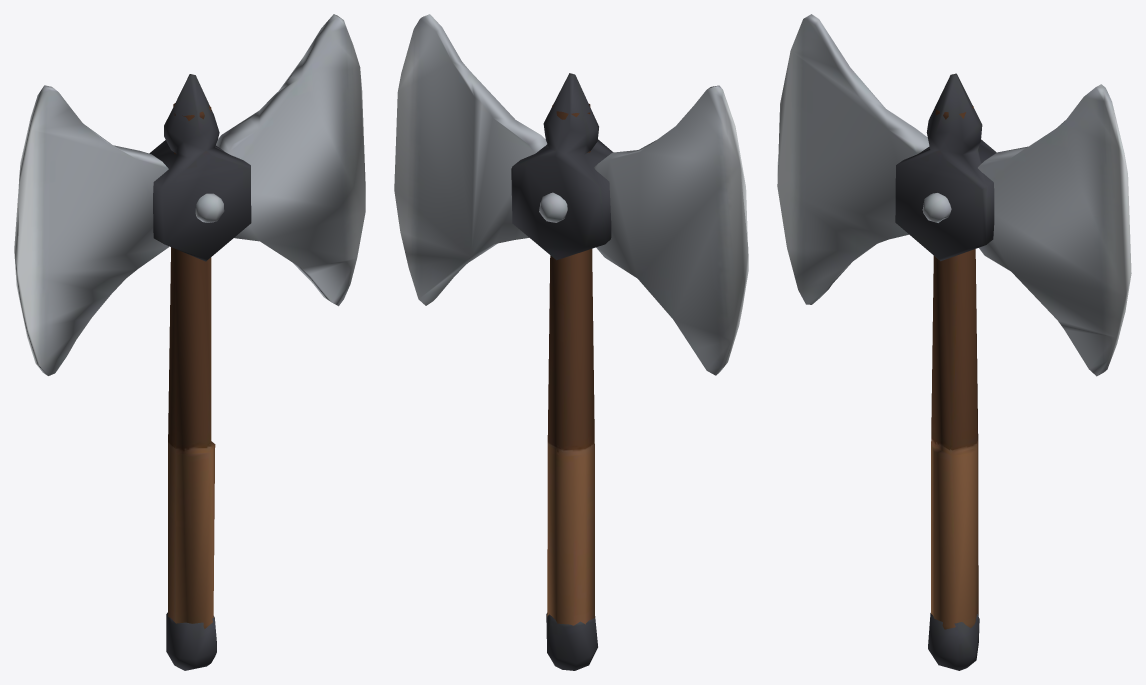
File: barbarian-axe.glb
3 renders of one model, left to right at view 1: azimuth 30°, elevation 25°; view 2: azimuth 150°, elevation 25°; view 3: azimuth 330°, elevation 25°, orthographic.
Visible parts, largest first — view 1: axe; view 2: axe; view 3: axe.
Part boxes in pixels (x1,y1,x2,y2): axe: (14, 14, 365, 670); axe: (394, 14, 748, 670); axe: (777, 14, 1131, 670).
Bounding box in the file's own units: 0.285 × 0.4775 × 0.0691.
Materials: 1 (1 with a texture image).
